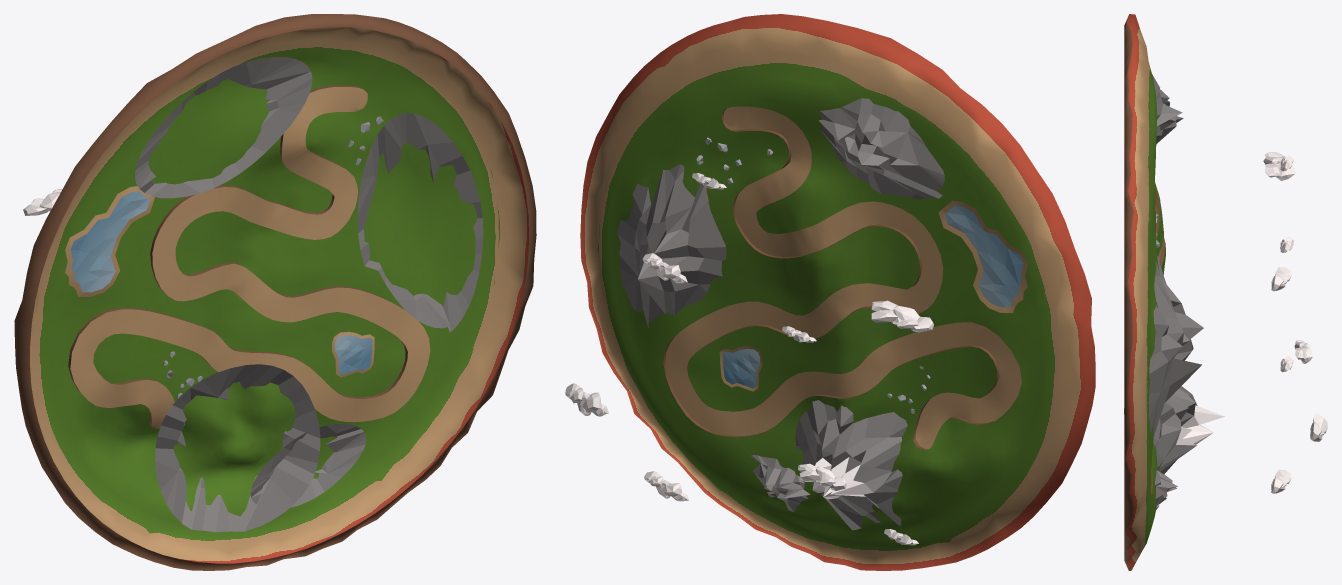
The model's file is Landscape.fbx.
3 views of the same model, side by side, from view 1: azimuth 30°, elevation 25°; view 2: azimuth 150°, elevation 25°; view 3: azimuth 270°, elevation 25° (orthographic). The views are drawn at different scales.
Visible parts, largest first — view 1: Terrain; view 2: Terrain, Clouds; view 3: Terrain, Clouds.
Part boxes in pixels (bbox=[...]): Terrain: bbox=[14, 14, 536, 570]; Terrain: bbox=[580, 14, 1095, 570]; Clouds: bbox=[565, 173, 933, 545]; Terrain: bbox=[1124, 14, 1224, 570]; Clouds: bbox=[1263, 152, 1327, 493].
Size of the model in its own units: 56.86 by 56.85 by 20.82.
1 material, 1 textured.
